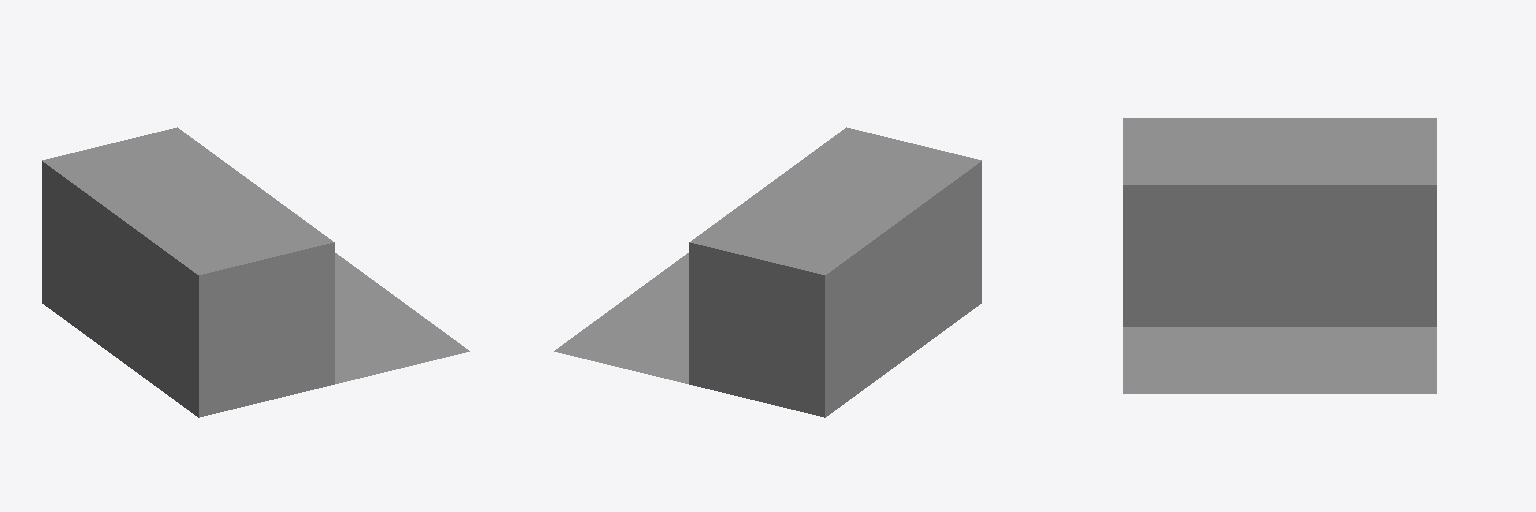
Rendered from background3.obj.
The picture shows the model from 3 angles: view 1: azimuth 30°, elevation 25°; view 2: azimuth 150°, elevation 25°; view 3: azimuth 270°, elevation 25°; orthographic projection.
Parts seen in each view (by area): view 1: Plane; view 2: Plane; view 3: Plane.
Boxes of the visible parts, box(x1,y1,x2,y2) form: Plane: box(42, 127, 469, 417); Plane: box(554, 127, 981, 417); Plane: box(1123, 118, 1436, 393).
Size of the model in its own units: 10 by 5 by 10.